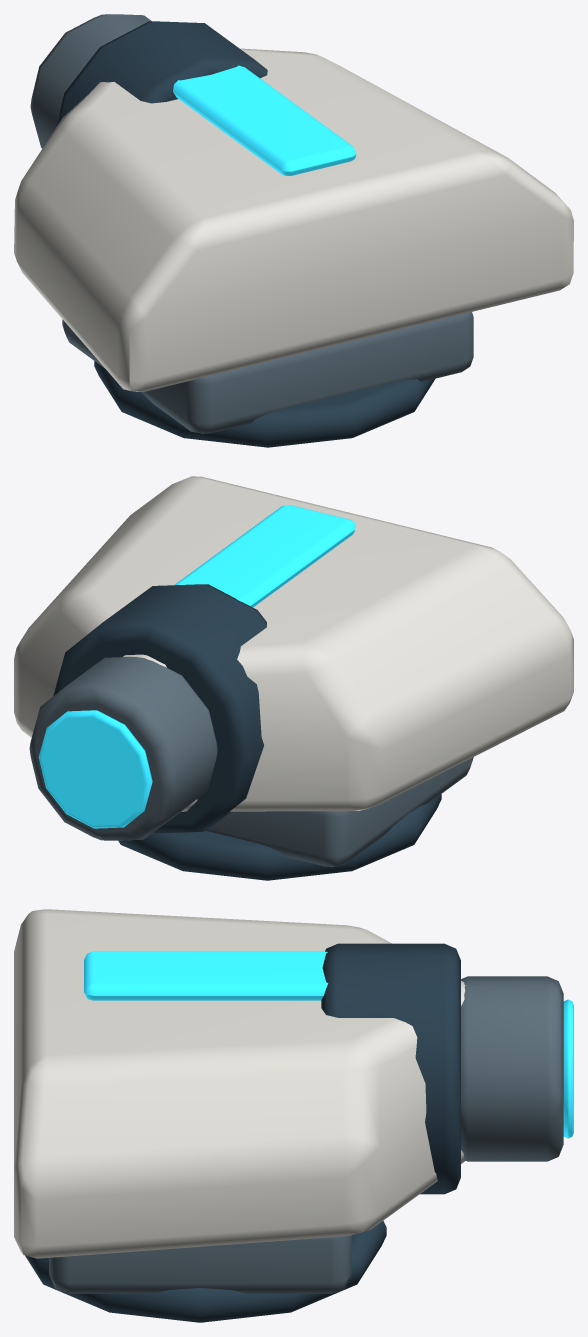
File: pulse_laser.glb
3 renders of one model, top to bottom at view 1: azimuth 30°, elevation 25°; view 2: azimuth 150°, elevation 25°; view 3: azimuth 270°, elevation 25°, orthographic. The views are drawn at different scales.
Parts seen in each view (by area): view 1: EnergyHousing, RotationYoke, EnergyTrack, RotationBearing, EmitterRoot, EnergyBarrel; view 2: EnergyHousing, EmitterRoot, EnergyBarrel, EmitterLens, RotationYoke, EnergyTrack, RotationBearing; view 3: EnergyHousing, EnergyBarrel, EmitterRoot, RotationYoke, EnergyTrack, RotationBearing, EmitterLens.
Boxes of the visible parts, x1,y1,x2,y2 form: EnergyHousing: [14, 48, 573, 391]; RotationYoke: [62, 312, 473, 433]; EnergyTrack: [173, 65, 356, 175]; RotationBearing: [94, 361, 435, 447]; EmitterRoot: [56, 21, 267, 127]; EnergyBarrel: [30, 14, 151, 148]; EnergyHousing: [14, 476, 573, 811]; EmitterRoot: [53, 584, 266, 833]; EnergyBarrel: [29, 657, 217, 840]; EmitterLens: [38, 710, 152, 828]; RotationYoke: [206, 757, 473, 866]; EnergyTrack: [174, 505, 355, 607]; RotationBearing: [118, 794, 441, 880]; EnergyHousing: [14, 909, 465, 1258]; EnergyBarrel: [461, 976, 563, 1161]; EmitterRoot: [321, 943, 460, 1194]; RotationYoke: [49, 1235, 351, 1293]; EnergyTrack: [84, 951, 328, 1000]; RotationBearing: [25, 1221, 386, 1322]; EmitterLens: [563, 999, 573, 1138].
Size of the model in its own units: 1.2 by 0.7 by 1.2.
